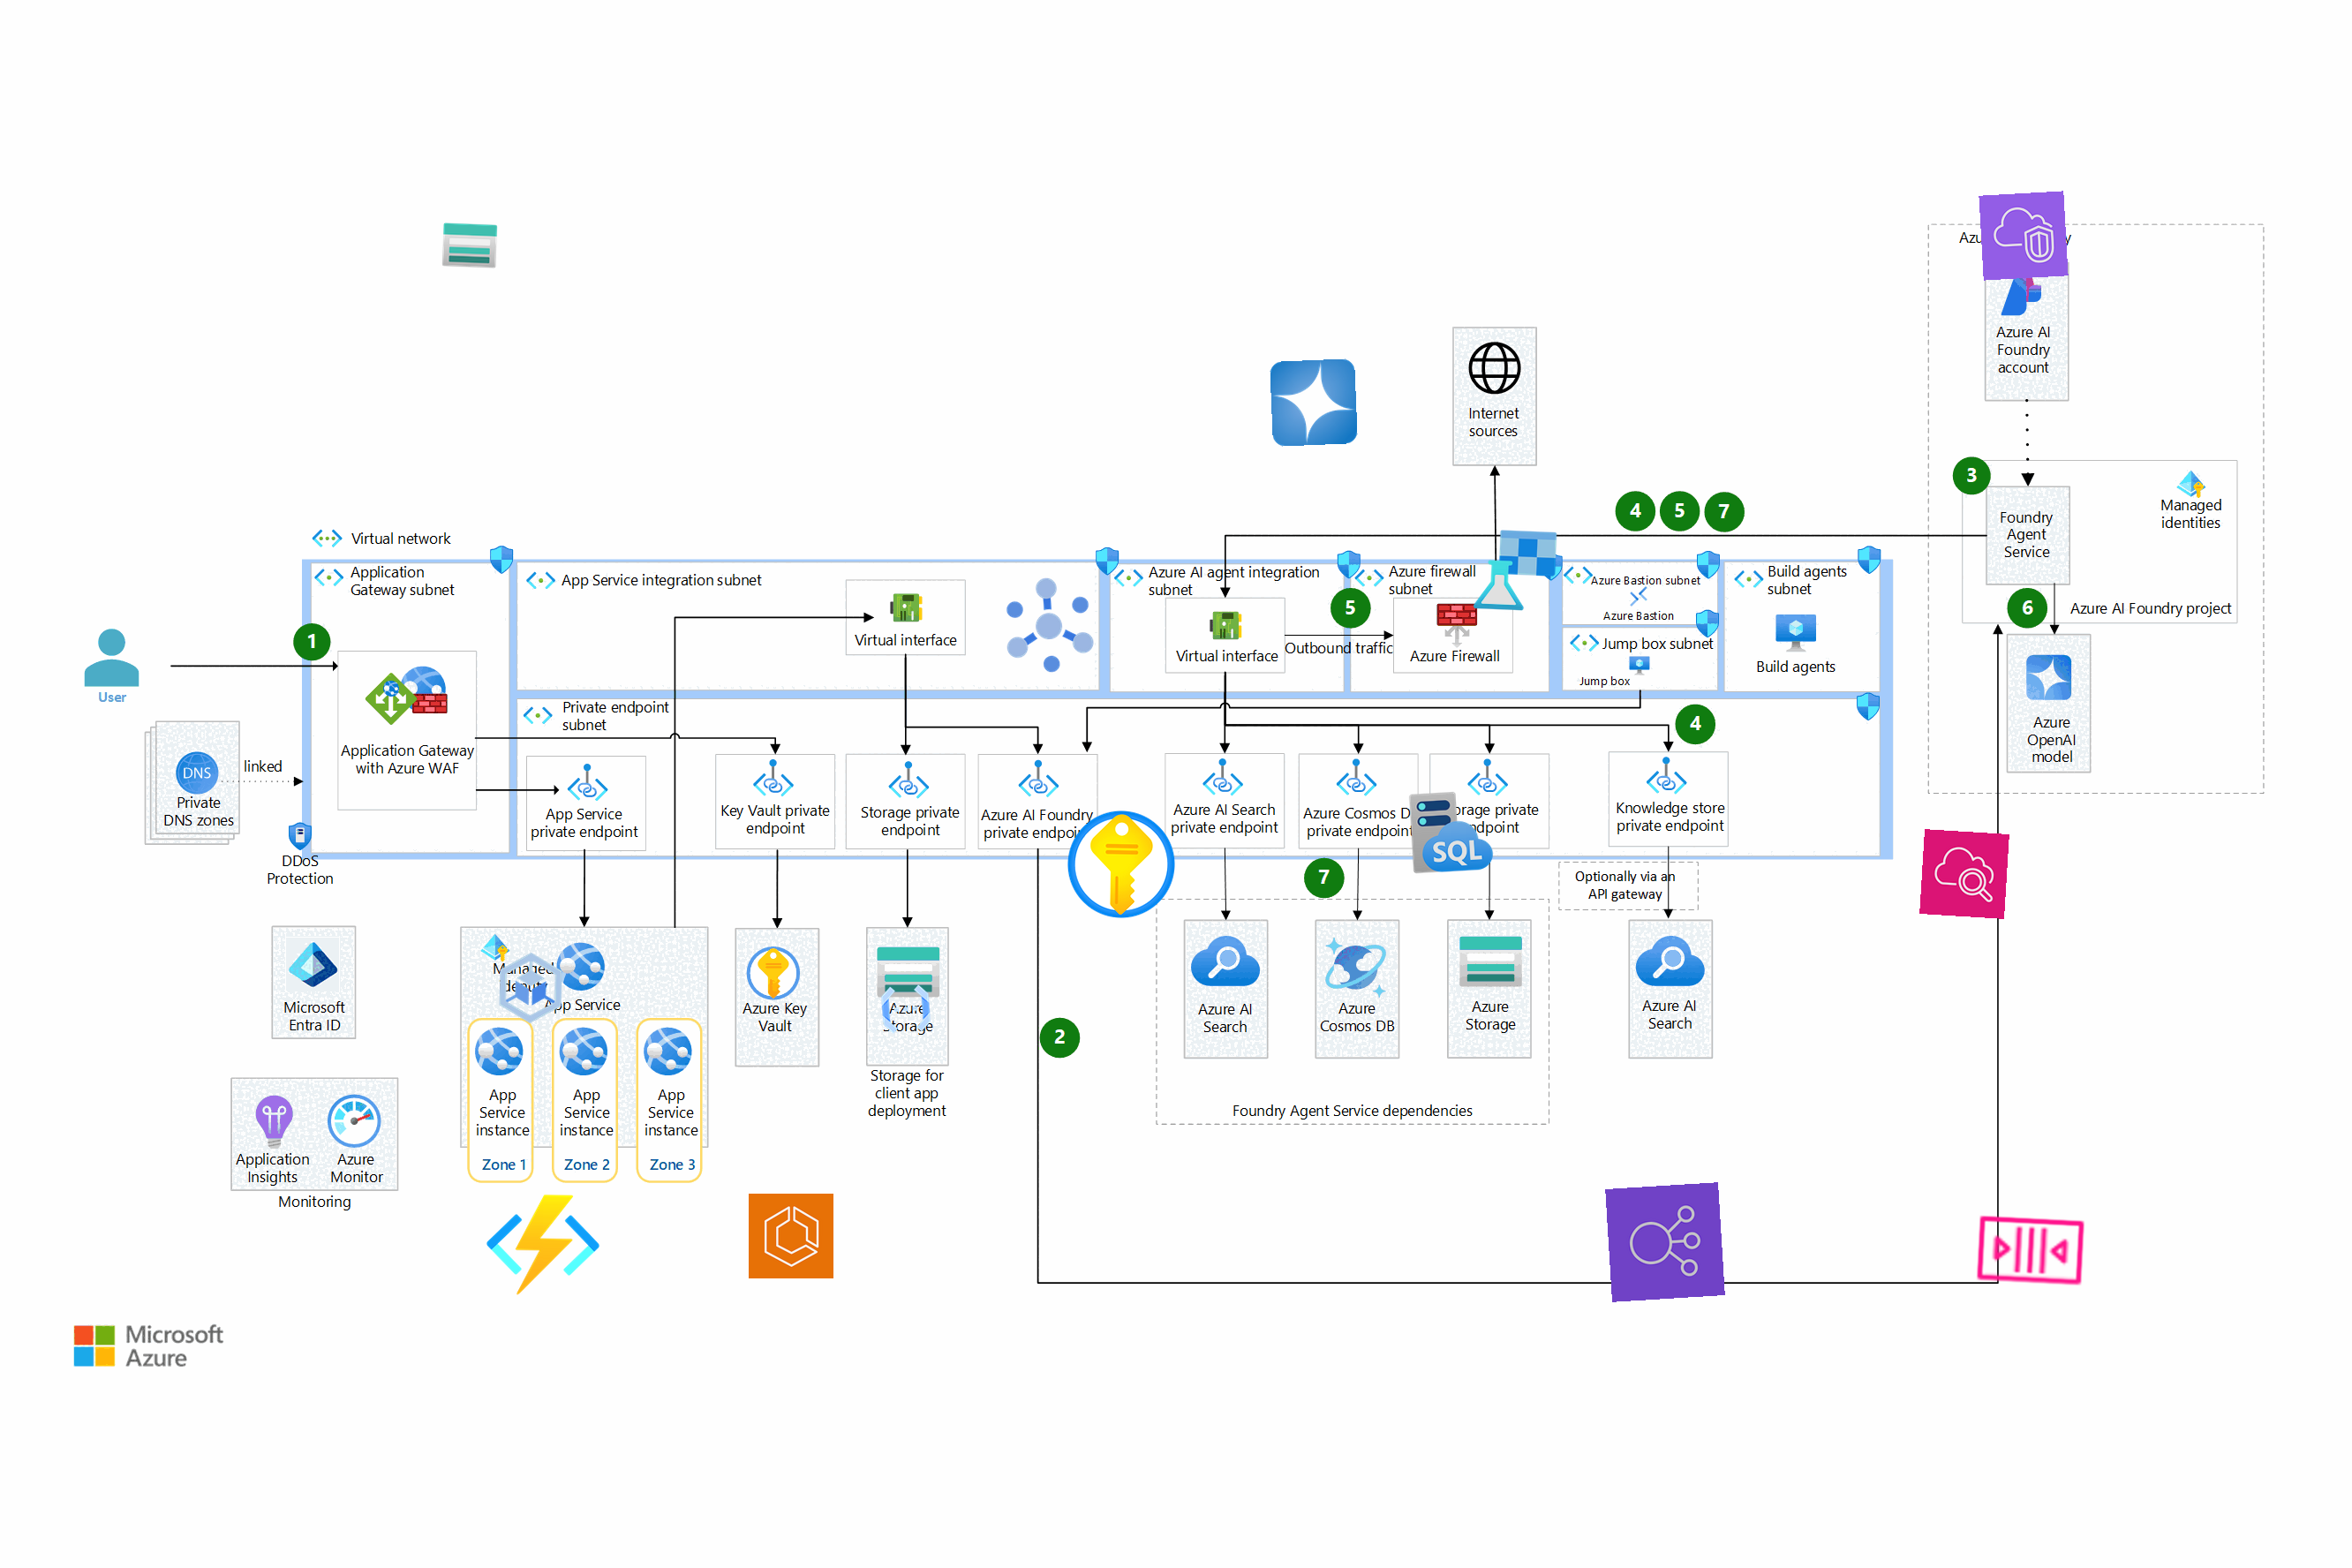aws_amazon_cloudwatch: (1920, 829, 2009, 919)
aws_amazon_elastic_container_service: (747, 1193, 835, 1279)
aws_amazon_virtual_private_cloud: (1979, 191, 2068, 280)
aws_elastic_load_balancing: (1605, 1183, 1725, 1302)
aws_simple_queue_service_queue: (1971, 1190, 2091, 1309)
azure_function_apps: (485, 1186, 602, 1304)
azure_key_vaults: (1062, 807, 1179, 922)
azure_machine_learning_studio_workspaces: (1472, 527, 1559, 614)
azure_openai: (1269, 359, 1358, 446)
azure_sql_managed_instance: (1407, 787, 1496, 877)
azure_storage_accounts: (439, 215, 500, 275)
gcp_cloud_functions: (875, 978, 936, 1039)
gcp_google_kubernetes_engine: (487, 945, 574, 1031)
gcp_pubsub: (989, 563, 1109, 686)
